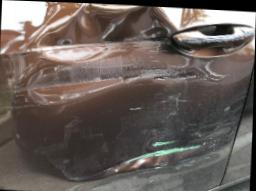Door: (6, 1, 256, 188)
